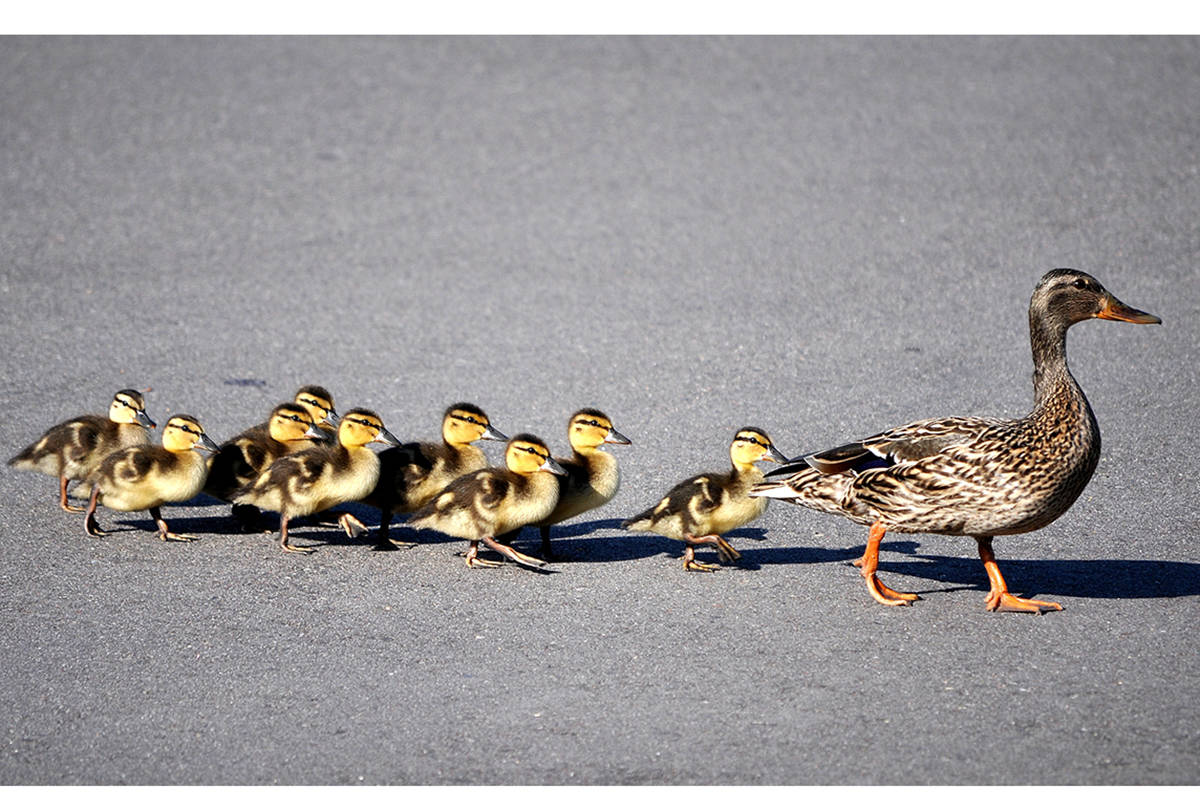duck: (752, 258, 1167, 625)
duckling: (328, 393, 504, 552), (241, 408, 399, 568), (638, 424, 785, 579), (412, 436, 562, 581), (10, 390, 155, 527), (78, 412, 216, 555), (488, 405, 632, 542), (218, 381, 338, 508), (190, 405, 316, 525)
